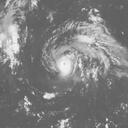cyclone: (55, 55, 76, 77)
